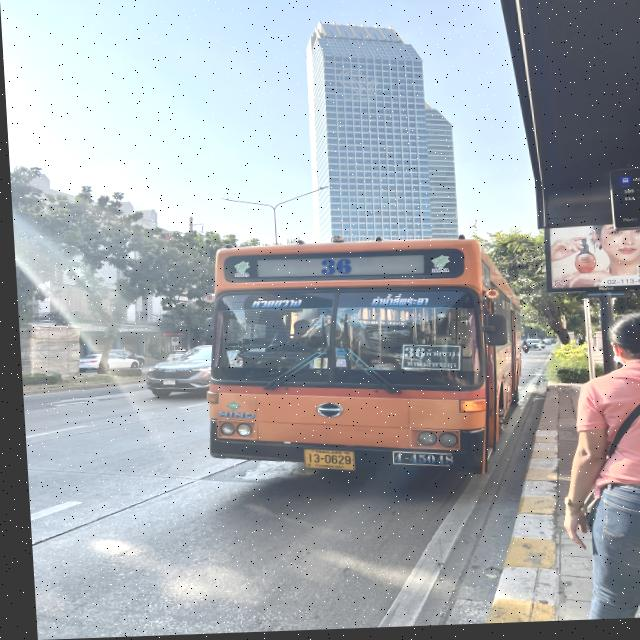BMTA-bus: (193, 240, 523, 483)
Bus-Line-Number: (311, 256, 354, 282)
Destination-Sign-Normal: (394, 347, 459, 379)
